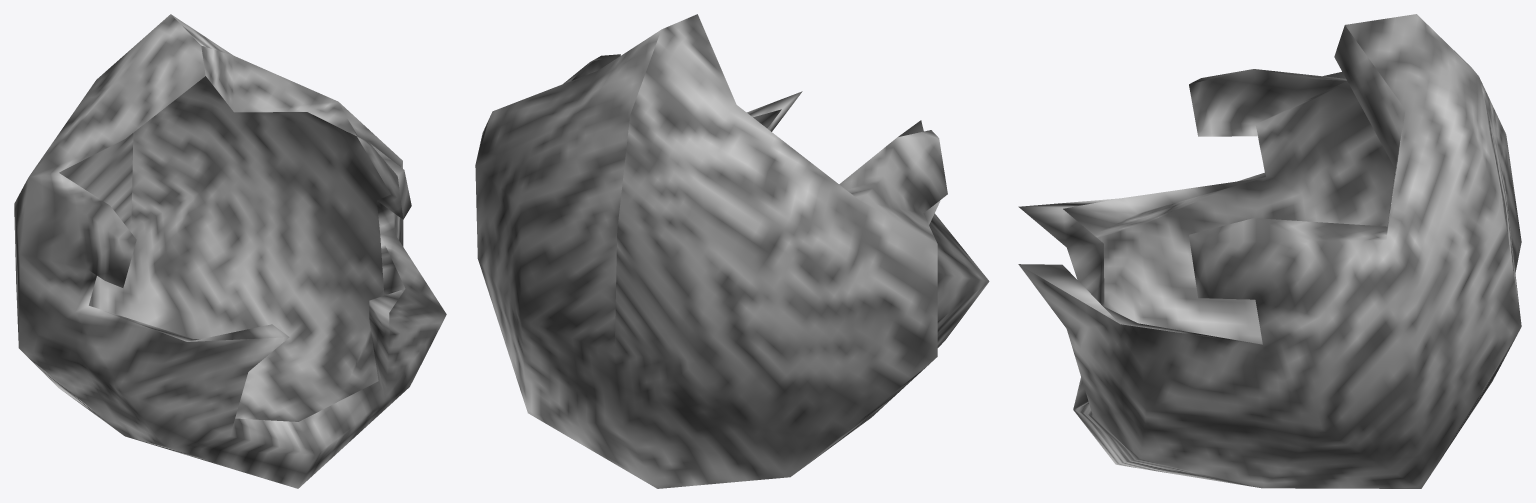
File: Wig_Bob_Hair_MessyCurly.fbx
3 views of the same model, side by side, from view 1: azimuth 30°, elevation 25°; view 2: azimuth 150°, elevation 25°; view 3: azimuth 270°, elevation 25° (orthographic). The views are drawn at different scales.
Parts seen in each view (by area): view 1: BoxOfJars003; view 2: BoxOfJars003; view 3: BoxOfJars003.
Part boxes in pixels (x1,y1,x2,y2): BoxOfJars003: (14, 14, 446, 488); BoxOfJars003: (475, 14, 989, 488); BoxOfJars003: (1018, 14, 1521, 488).
Size of the model in its own units: 14.6 by 13.95 by 14.03.
